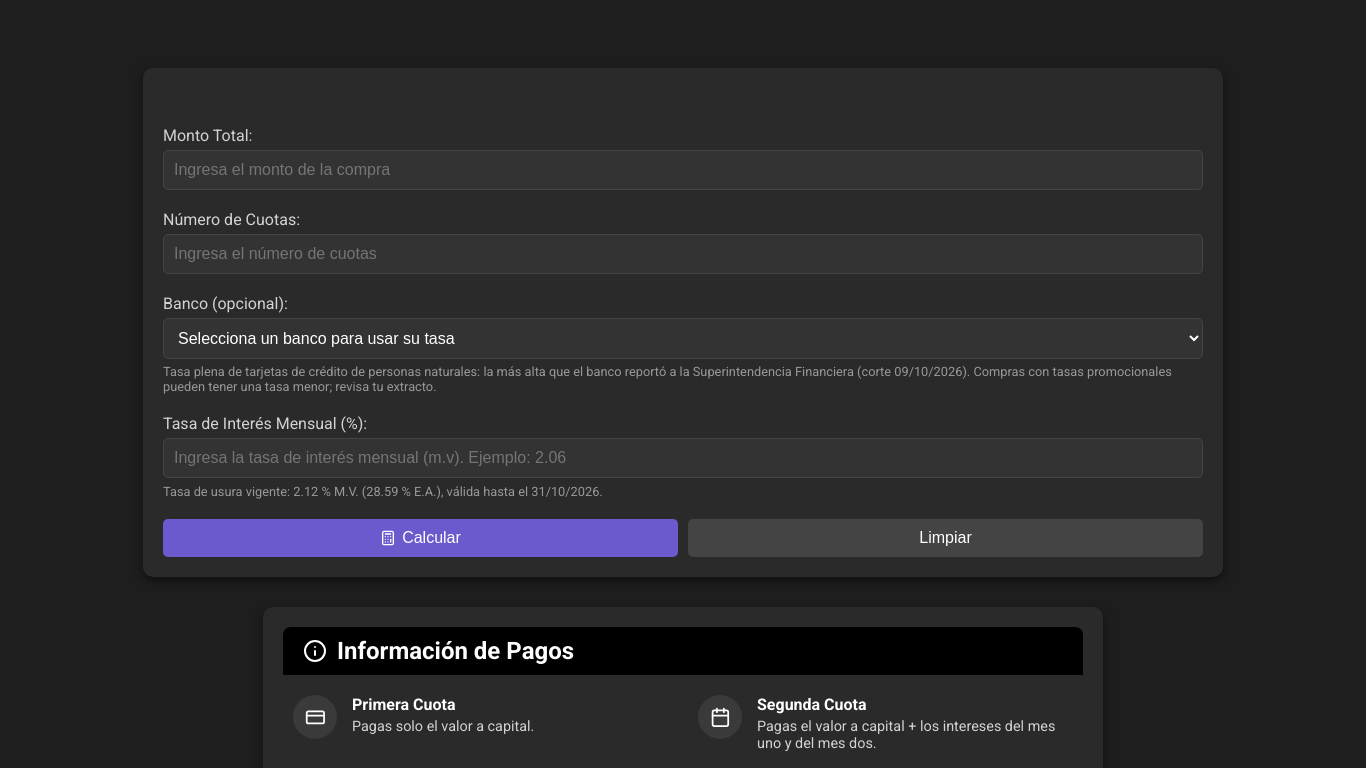
Test: elegir un banco llena la tasa mensual con su tasa plena
The image size is (1366, 768).
Expected: the text "Tasa de usura vigente" is shown, [163,484,603,499]
Select "Banco Dos — 2.1156 % M.V. (28.56 % E.A.)" in the dropdown labelled "Banco (opcional):" at (683, 339), box [163,318,1203,359]
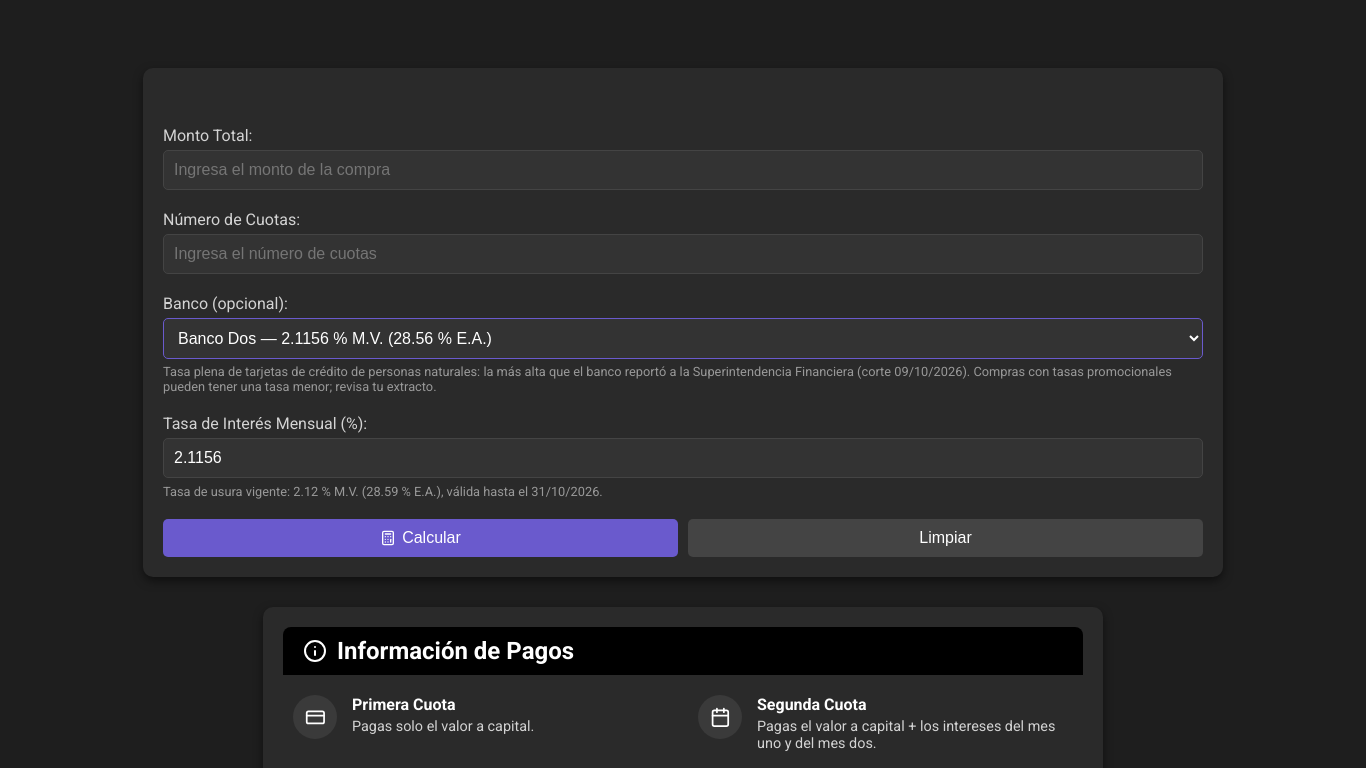
Expected: the text "corte 09/10/2026" is shown, [163,364,1203,394]
Expected: the number field labelled "Tasa de Interés Mensual (%):" holds "2.1156", [163,438,1203,478]
